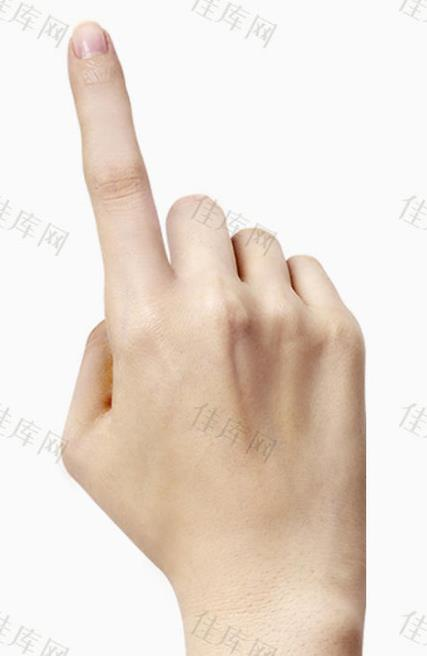up: (52, 15, 375, 599)
